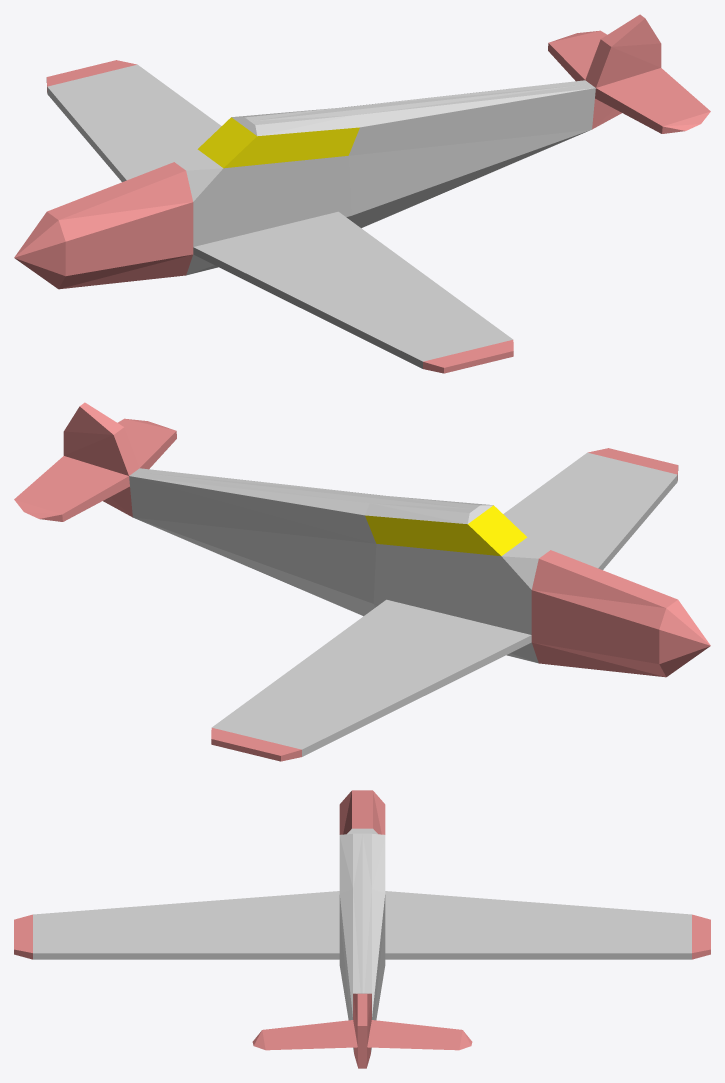
File: Stolen Messerschmitt.fbx
3 renders of one model, top to bottom at view 1: azimuth 30°, elevation 25°; view 2: azimuth 150°, elevation 25°; view 3: azimuth 270°, elevation 25°, orthographic. The views are drawn at different scales.
Parts seen in each view (by area): view 1: Stolen Messerschmitt; view 2: Stolen Messerschmitt; view 3: Stolen Messerschmitt.
Part boxes in pixels (x1,y1,x2,y2): Stolen Messerschmitt: [14, 14, 710, 373]; Stolen Messerschmitt: [14, 402, 710, 761]; Stolen Messerschmitt: [14, 790, 710, 1068].
Size of the model in its own units: 896 by 189 by 957.
